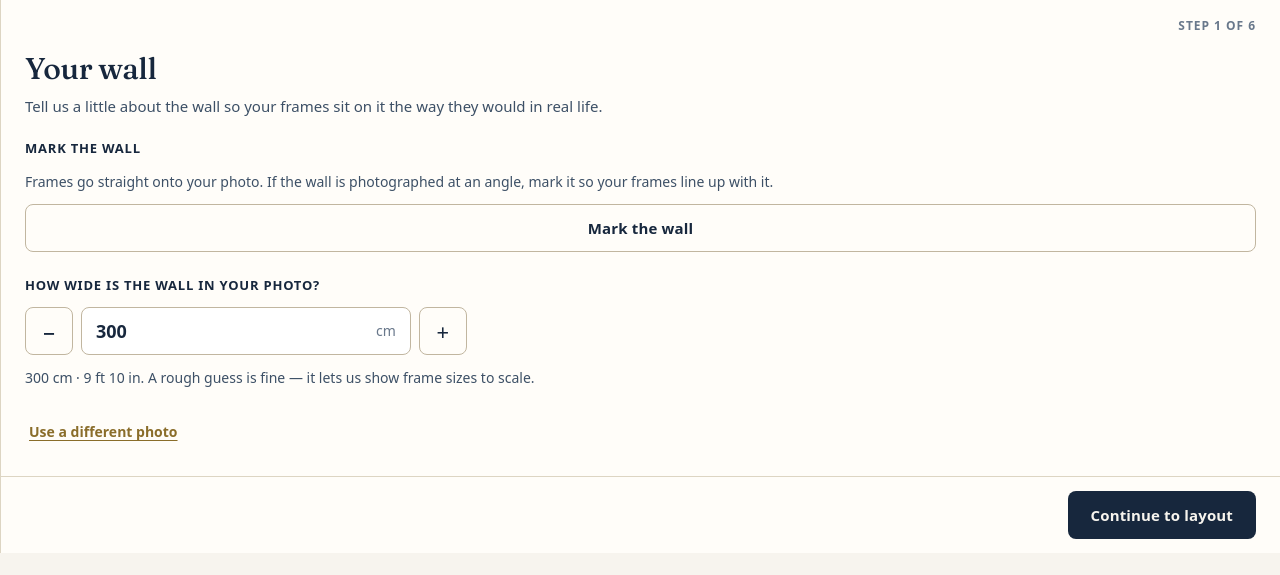
Test: Step 1 — your wall › rejects "" with an explanation and blocks continuing
Clear the field with test id "wall-width". click: (232, 331)
box: [96,317,368,345]
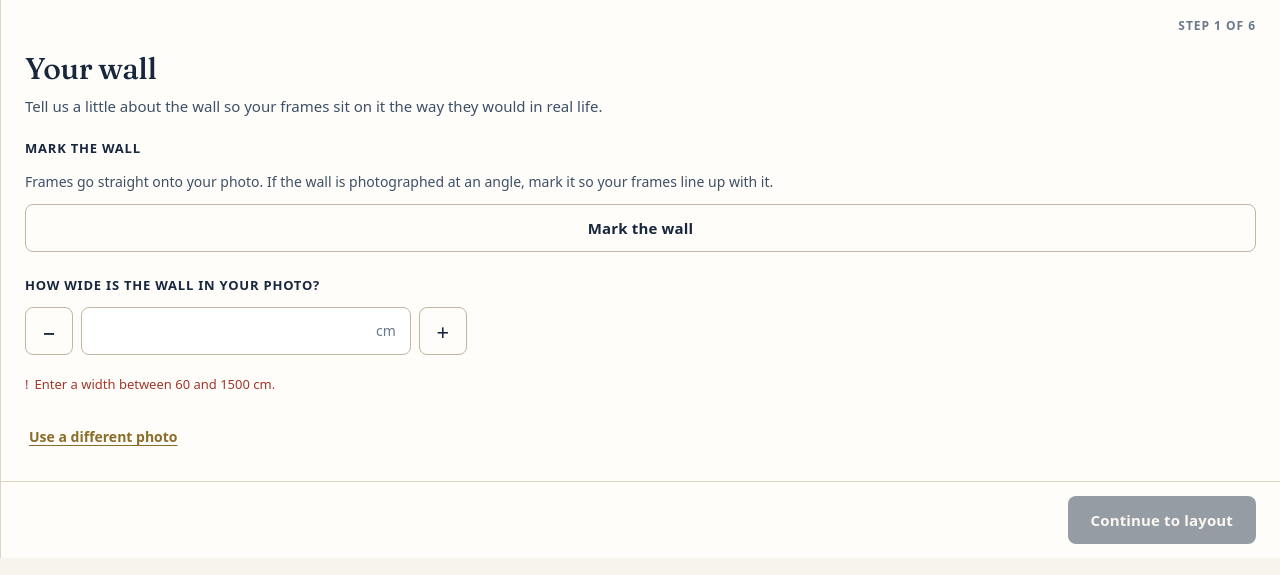
Expected: the message shows "between 60 and 1500 cm", [25,375,275,393]
Expected: the button with test id "primary-action" is disabled, [1068,496,1256,544]
